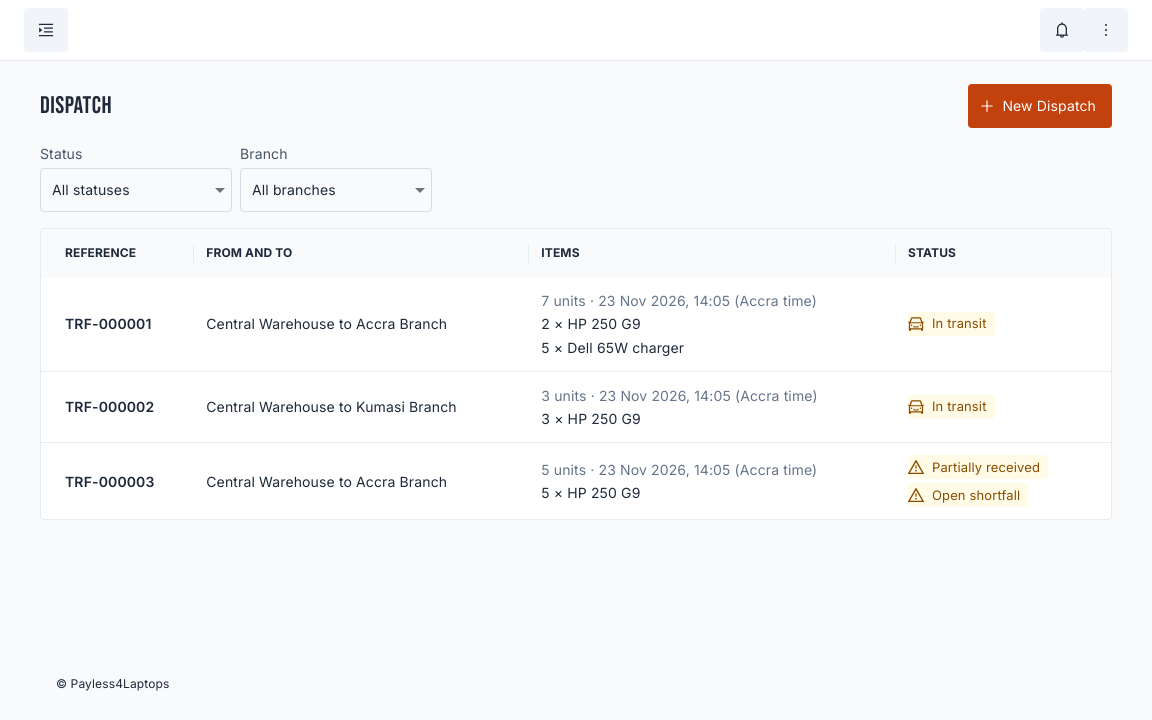
dispatch status list (F5.2) › status and branch filters go to the API, so "In transit" plus a branch shows what is waiting there
Expected: the text "TRF-000003" is shown, [65,473,154,490]
Select "In transit" in the dropdown labelled "Status" at (136, 190), box [40,168,232,212]
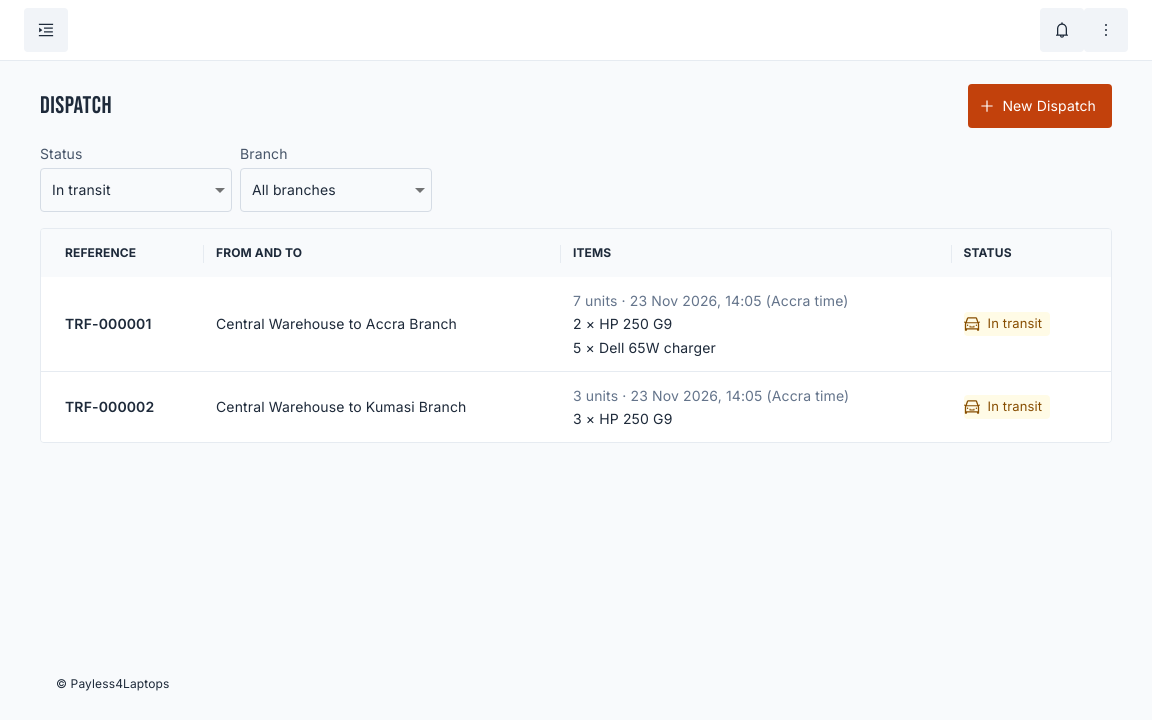
Expected: the text "TRF-000001" is shown, [65,315,152,332]
Expected: the text "TRF-000003" is gone
Select "Kumasi Branch" in the dropdown labelled "Branch" at (336, 190), box [240,168,432,212]
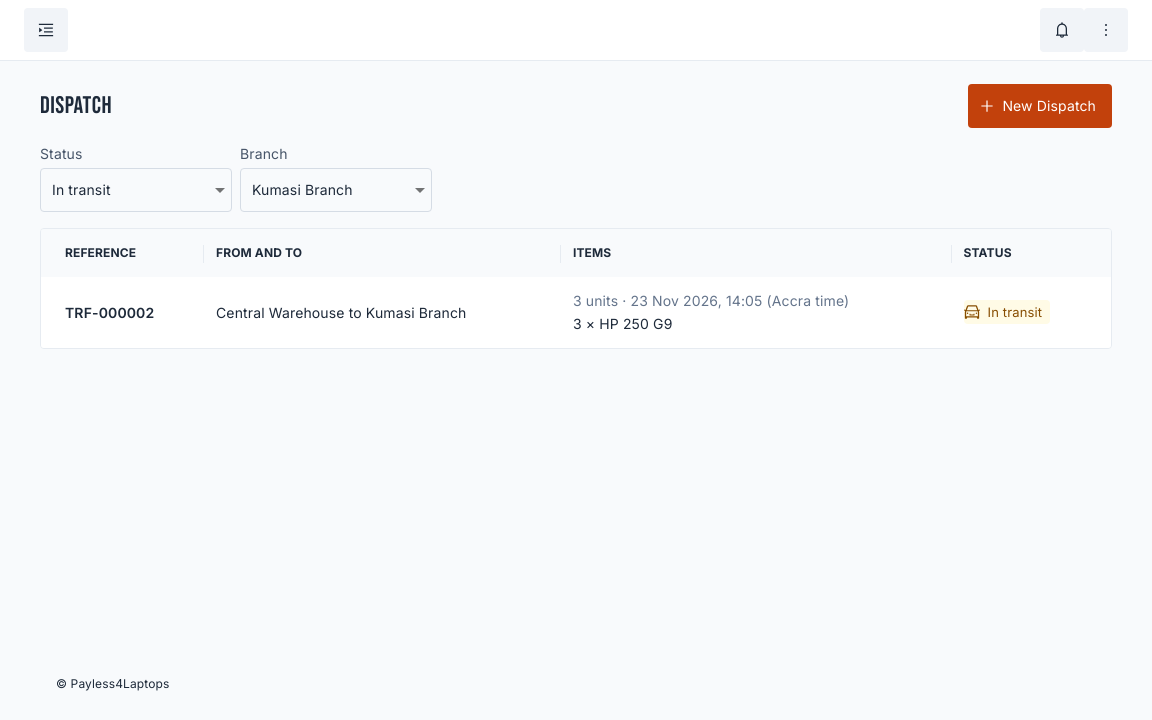
Expected: the text "TRF-000002" is shown, [65,304,154,321]
Expected: the text "TRF-000001" is gone
Select "Rejected" in the dropdown labelled "Status" at (136, 190), box [40,168,232,212]
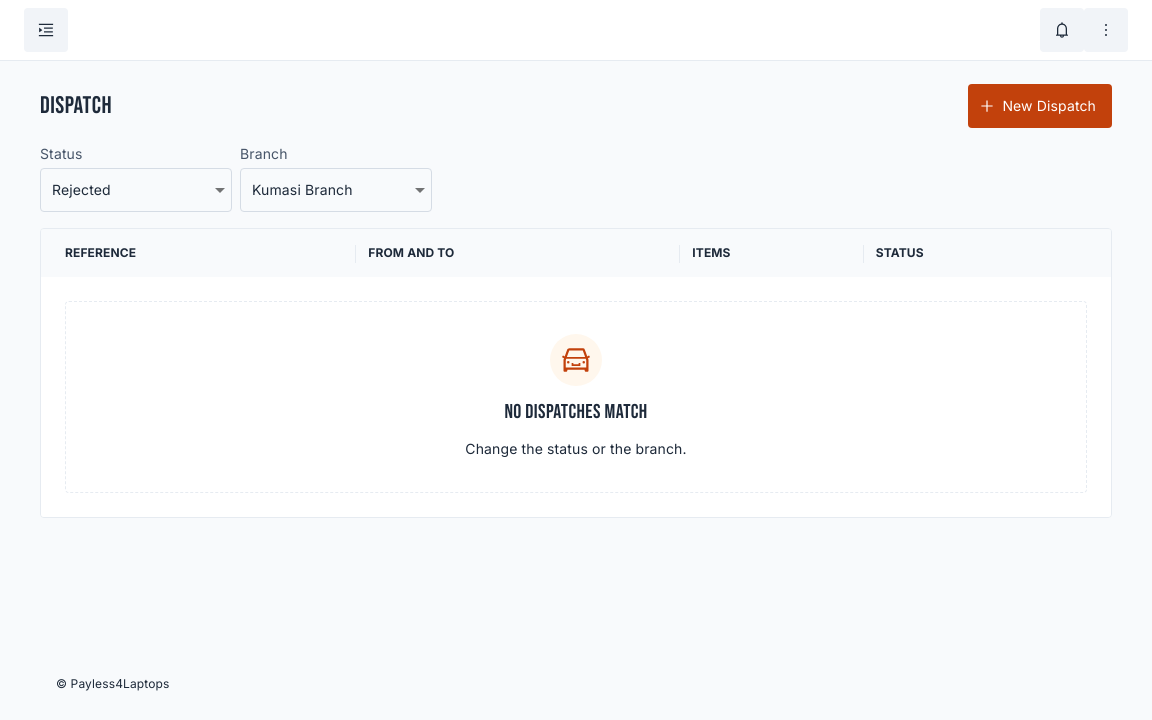
Expected: the heading "No dispatches match" is shown, [504,398,648,426]
